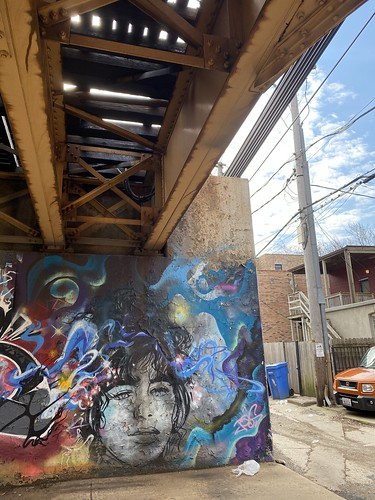building: (262, 254, 375, 390)
graffiti: (1, 256, 273, 454)
sky: (234, 6, 375, 246)
